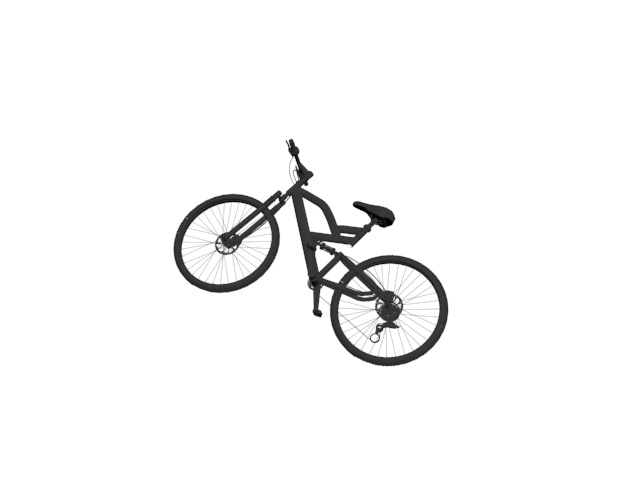bike: (169, 137, 456, 368)
